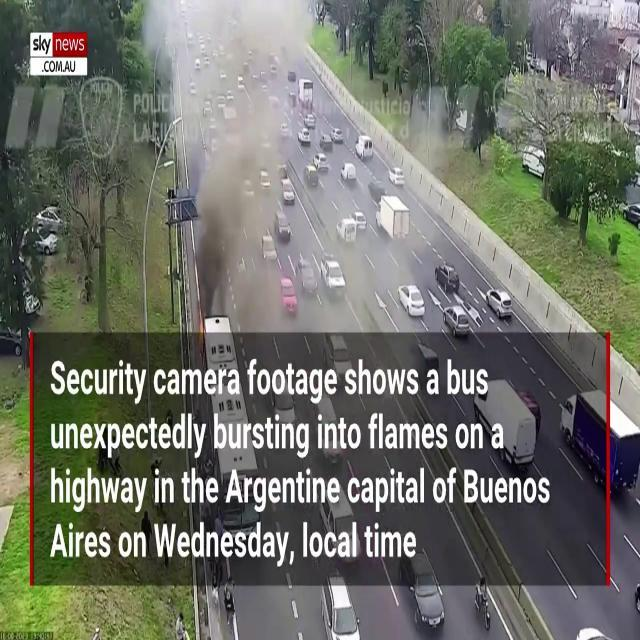Smoke: (178, 1, 296, 327)
